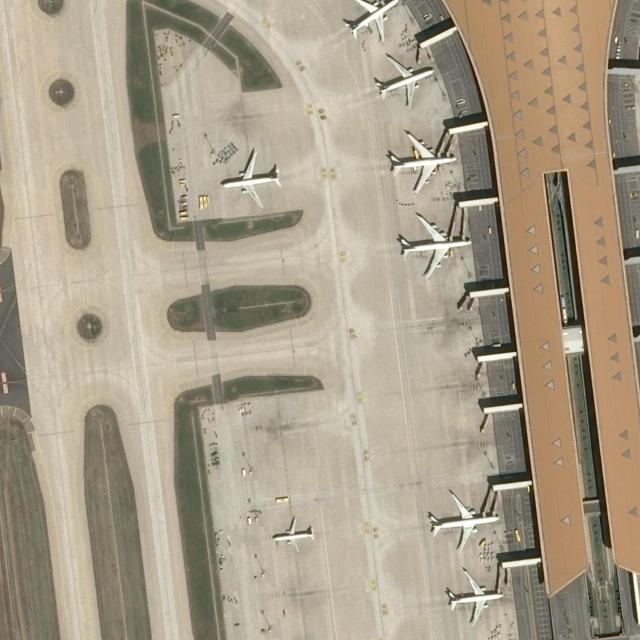Aircraft: (396, 211, 478, 278), (425, 488, 503, 554), (386, 129, 459, 189), (440, 569, 508, 624), (218, 151, 284, 207), (371, 53, 439, 103), (341, 0, 404, 42), (269, 514, 317, 552)
